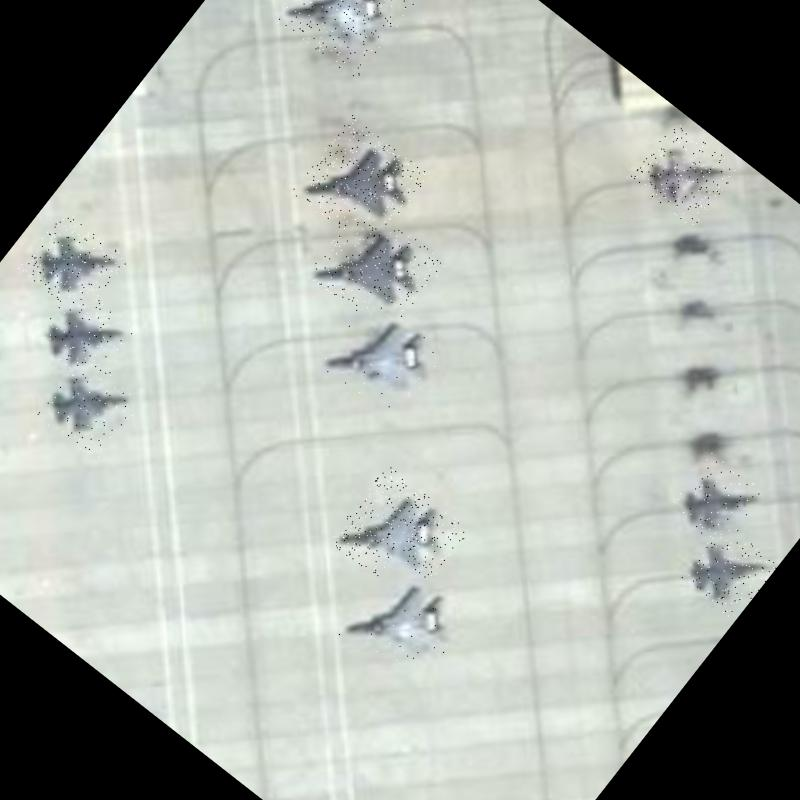A13: (332, 554, 477, 698), (328, 465, 470, 607), (290, 114, 430, 254), (306, 200, 446, 339), (316, 292, 454, 429), (274, 0, 417, 81)
A5: (628, 118, 740, 229), (17, 210, 130, 320), (34, 352, 145, 463), (33, 281, 140, 388), (679, 520, 780, 622), (668, 451, 768, 551)
